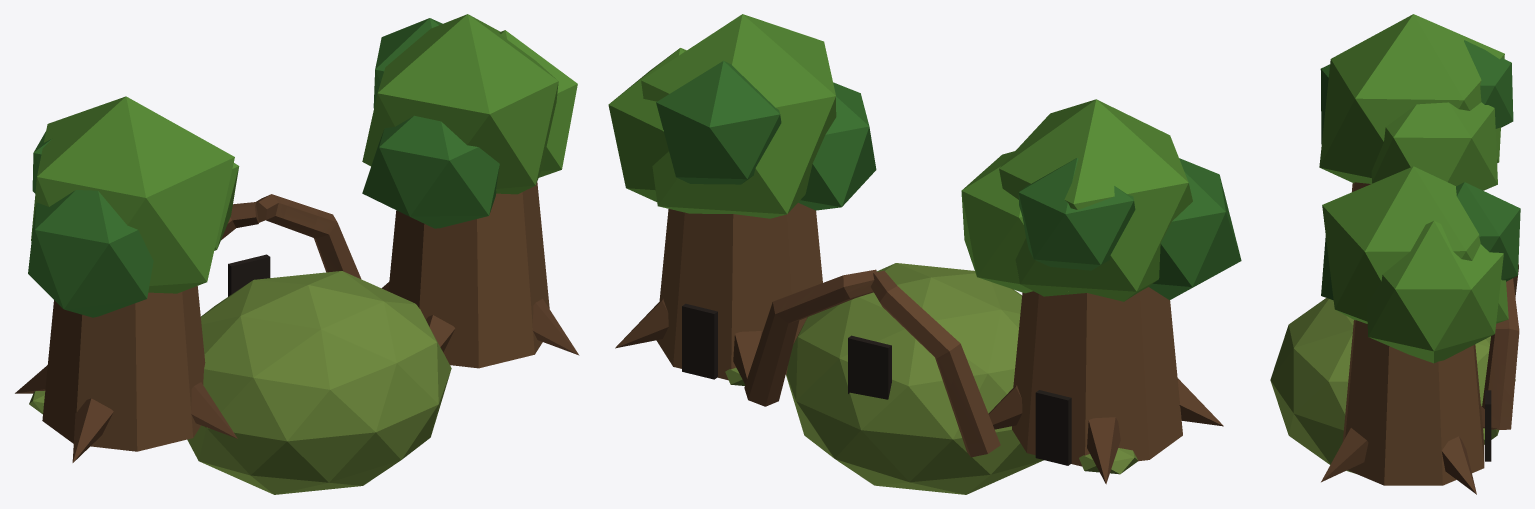
File: treekin_row_broken.glb
3 views of the same model, side by side, from view 1: azimuth 30°, elevation 25°; view 2: azimuth 150°, elevation 25°; view 3: azimuth 270°, elevation 25° (orthographic). The views are drawn at different scales.
Visible parts, largest first — view 1: treekin_row_piece4, treekin_row_piece10, treekin_row_piece0, treekin_row_piece1, treekin_row_piece3, treekin_row_piece12, treekin_row_piece6, treekin_row_piece8, treekin_row_piece9, treekin_row_piece5, treekin_row_piece2, treekin_row_piece11 (+1 smaller); view 2: treekin_row_piece6, treekin_row_piece2, treekin_row_piece1, treekin_row_piece5, treekin_row_piece0, treekin_row_piece10, treekin_row_piece8, treekin_row_piece9, treekin_row_piece7, treekin_row_piece12, treekin_row_piece11, treekin_row_piece13; view 3: treekin_row_piece10, treekin_row_piece5, treekin_row_piece3, treekin_row_piece0, treekin_row_piece4, treekin_row_piece2, treekin_row_piece12, treekin_row_piece1, treekin_row_piece9, treekin_row_piece6, treekin_row_piece11, treekin_row_piece8.
Boxes of the visible parts, x1=… form: treekin_row_piece4: x1=214, y1=293, x2=579, y2=494; treekin_row_piece10: x1=376, y1=14, x2=577, y2=204; treekin_row_piece0: x1=31, y1=103, x2=239, y2=316; treekin_row_piece1: x1=97, y1=202, x2=270, y2=461; treekin_row_piece3: x1=291, y1=172, x2=552, y2=353; treekin_row_piece12: x1=88, y1=96, x2=234, y2=227; treekin_row_piece6: x1=15, y1=114, x2=121, y2=462; treekin_row_piece8: x1=198, y1=201, x2=317, y2=455; treekin_row_piece9: x1=374, y1=23, x2=570, y2=235; treekin_row_piece5: x1=326, y1=212, x2=452, y2=360; treekin_row_piece2: x1=310, y1=22, x2=442, y2=316; treekin_row_piece11: x1=220, y1=190, x2=291, y2=241; treekin_row_piece6: x1=949, y1=165, x2=1223, y2=484; treekin_row_piece2: x1=613, y1=74, x2=972, y2=457; treekin_row_piece1: x1=839, y1=161, x2=1059, y2=487; treekin_row_piece5: x1=608, y1=96, x2=944, y2=406; treekin_row_piece0: x1=981, y1=122, x2=1241, y2=277; treekin_row_piece10: x1=635, y1=14, x2=867, y2=121; treekin_row_piece8: x1=783, y1=274, x2=1021, y2=472; treekin_row_piece9: x1=629, y1=75, x2=876, y2=180; treekin_row_piece7: x1=792, y1=270, x2=1038, y2=494; treekin_row_piece12: x1=1033, y1=99, x2=1177, y2=153; treekin_row_piece11: x1=805, y1=167, x2=996, y2=313; treekin_row_piece13: x1=762, y1=98, x2=865, y2=185; treekin_row_piece10: x1=1322, y1=166, x2=1477, y2=311; treekin_row_piece5: x1=1387, y1=279, x2=1513, y2=494; treekin_row_piece3: x1=1327, y1=266, x2=1465, y2=485; treekin_row_piece0: x1=1319, y1=23, x2=1472, y2=191; treekin_row_piece4: x1=1270, y1=298, x2=1370, y2=482; treekin_row_piece2: x1=1449, y1=189, x2=1520, y2=399; treekin_row_piece12: x1=1326, y1=14, x2=1434, y2=124; treekin_row_piece1: x1=1352, y1=55, x2=1518, y2=380; treekin_row_piece9: x1=1321, y1=188, x2=1478, y2=350; treekin_row_piece6: x1=1469, y1=40, x2=1515, y2=297; treekin_row_piece11: x1=1413, y1=111, x2=1515, y2=302; treekin_row_piece8: x1=1476, y1=289, x2=1518, y2=354.
Size of the model in its own units: 3.72 by 2.66 by 1.59.
